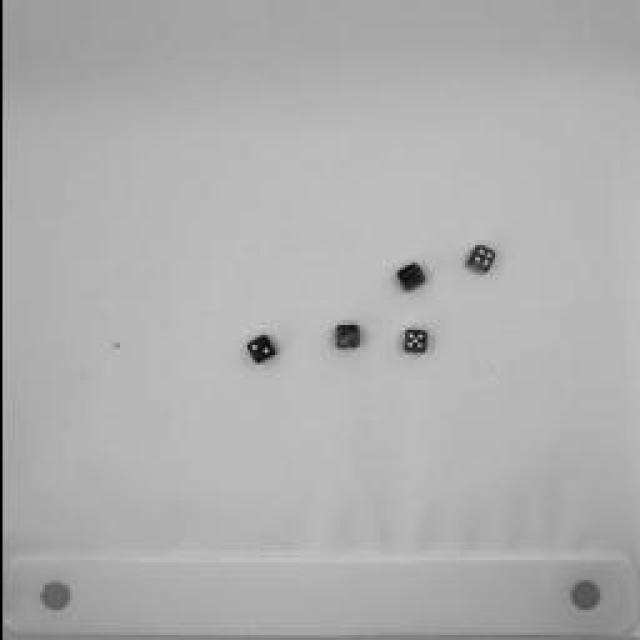dice_2: (245, 336, 277, 364), (332, 325, 362, 350)
dice_4: (465, 246, 490, 276)
dice_5: (404, 327, 426, 355)
dice_6: (395, 260, 425, 295)
